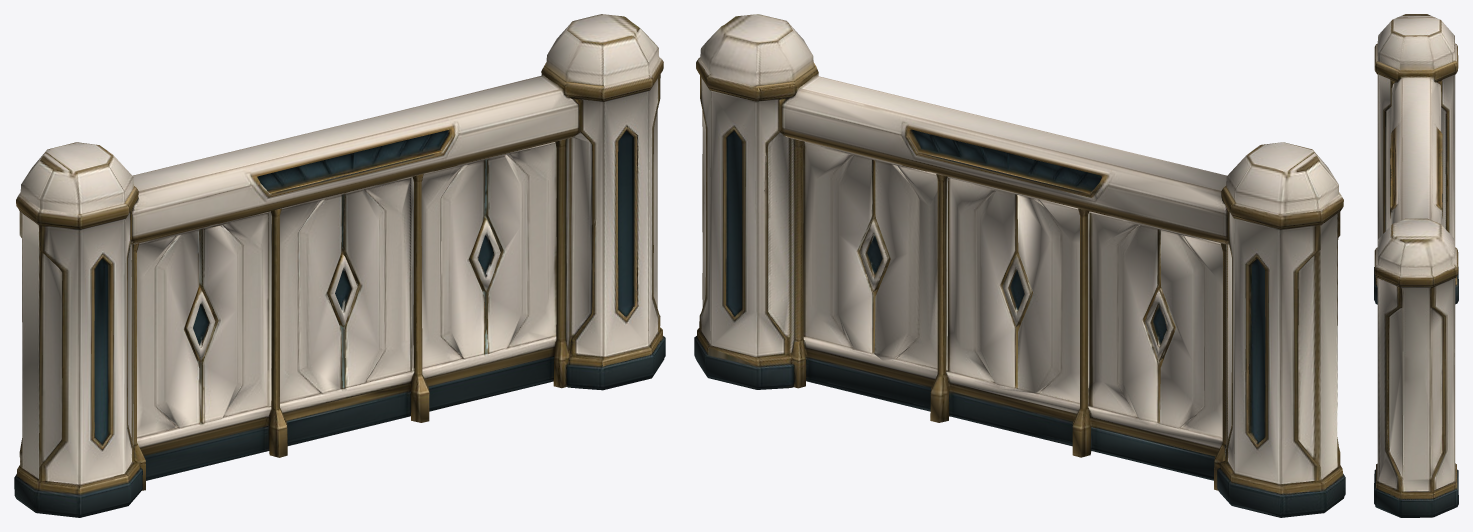
File: rampart.glb
The picture shows the model from 3 angles, left to right: view 1: azimuth 30°, elevation 25°; view 2: azimuth 150°, elevation 25°; view 3: azimuth 270°, elevation 25°; orthographic projection. The views are drawn at different scales.
Visible parts, largest first — view 1: mesh_node; view 2: mesh_node; view 3: mesh_node.
Part boxes in pixels (bbox=[...]): mesh_node: bbox=[14, 14, 665, 517]; mesh_node: bbox=[694, 14, 1345, 517]; mesh_node: bbox=[1374, 14, 1458, 517].
Bounding box in the file's own units: 2 × 1.02 × 0.292.
1 material, 1 textured.
